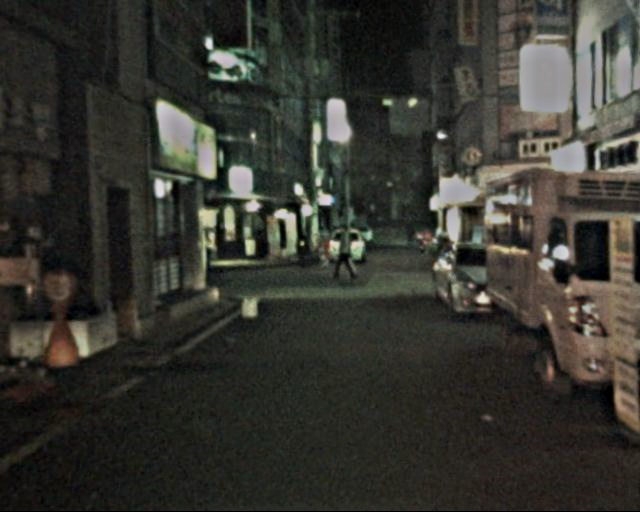person: (329, 222, 360, 285)
